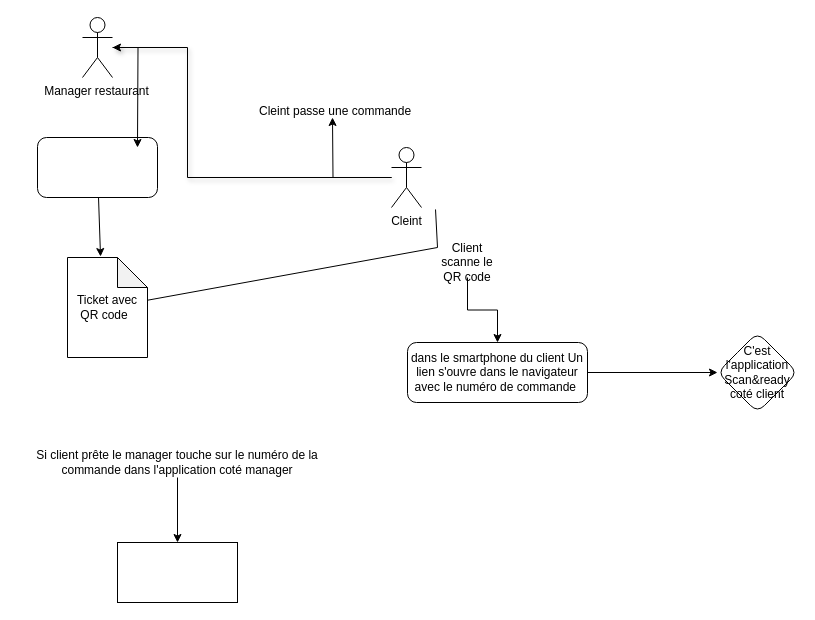
Image size: 815x620. Some labels were removed from this diagram. The shapes that lost their labels are listed below. From the top down, each one's centre as x and y in pixels, then its label:
At point 97,167: "Caisse".
At point 177,572: "Smartphone client sonne".
